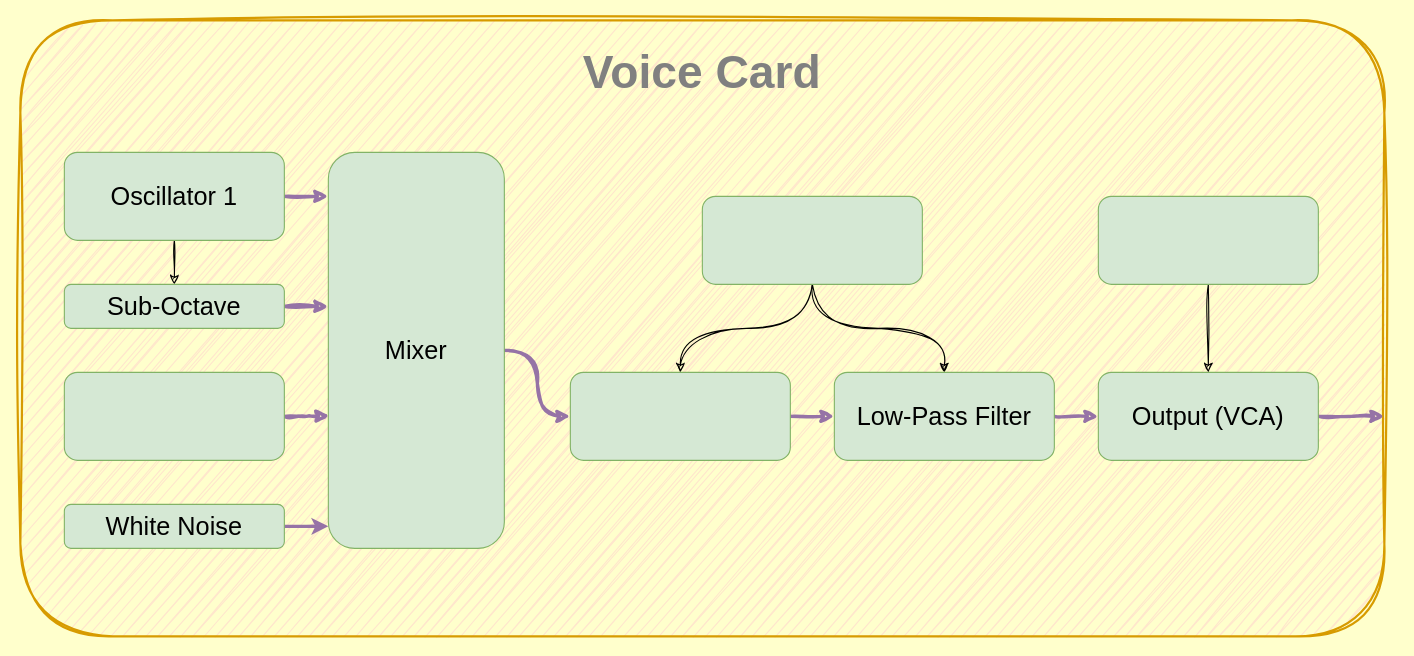
Some shapes in this 1414 by 656 pixel diagram are drawn without their labels. The shapes that lost their labels are listed below. From the top down, each one's centre as x and y in pixels, then its label:
point (811, 239): Filter Envelope
point (1207, 239): Amplitude Envelope
point (173, 415): Oscillator 2
point (679, 415): High-Pass Filter
